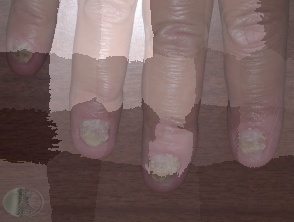Nail_psoriasis: (138, 123, 198, 195), (72, 97, 126, 165), (229, 119, 289, 168), (2, 33, 48, 80)
